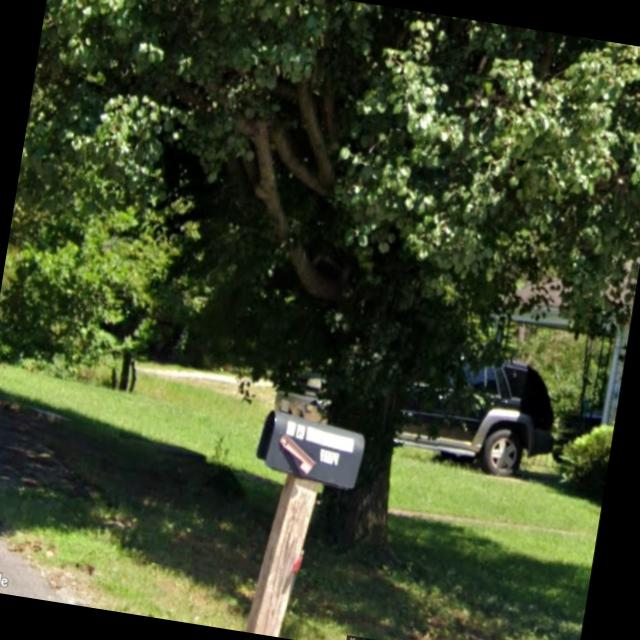House: (498, 253, 638, 427)
